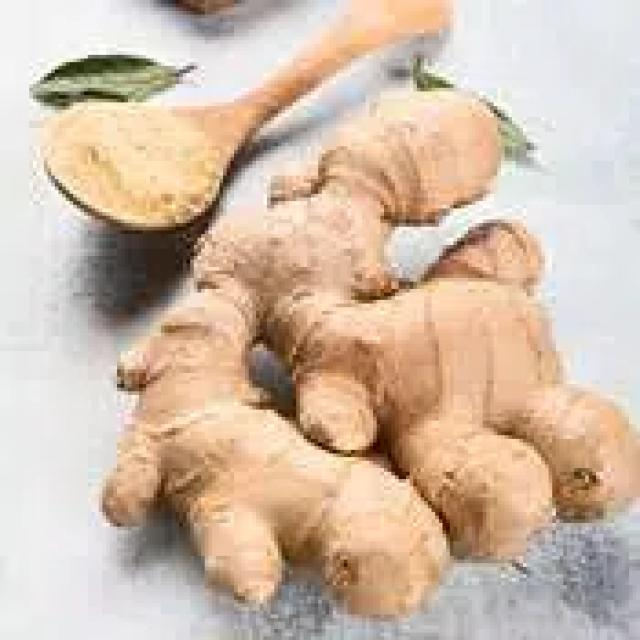ginger-root: (46, 57, 636, 620)
